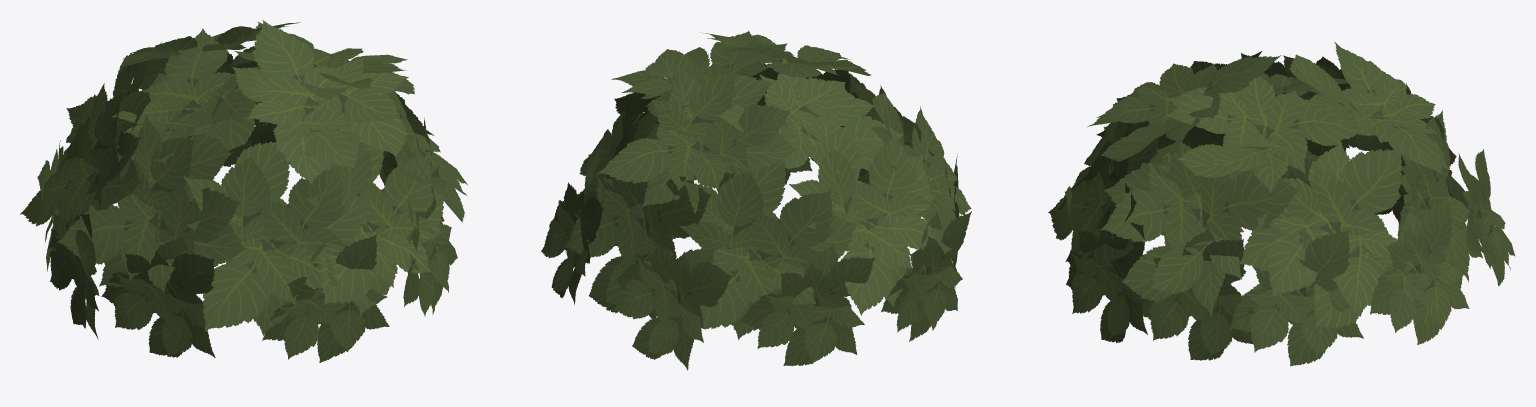
File: Bush_Bush.fbx
3 views of the same model, side by side, from view 1: azimuth 30°, elevation 25°; view 2: azimuth 150°, elevation 25°; view 3: azimuth 270°, elevation 25° (orthographic). The views are drawn at different scales.
Parts seen in each view (by area): view 1: pPlane43; view 2: pPlane43; view 3: pPlane43.
Boxes of the visible parts, x1,y1,x2,y2 form: pPlane43: [20, 20, 467, 362]; pPlane43: [541, 30, 971, 370]; pPlane43: [1048, 41, 1515, 366].
Bounding box in the file's own units: 2.47 × 1.71 × 2.59.
1 material, 1 textured.
